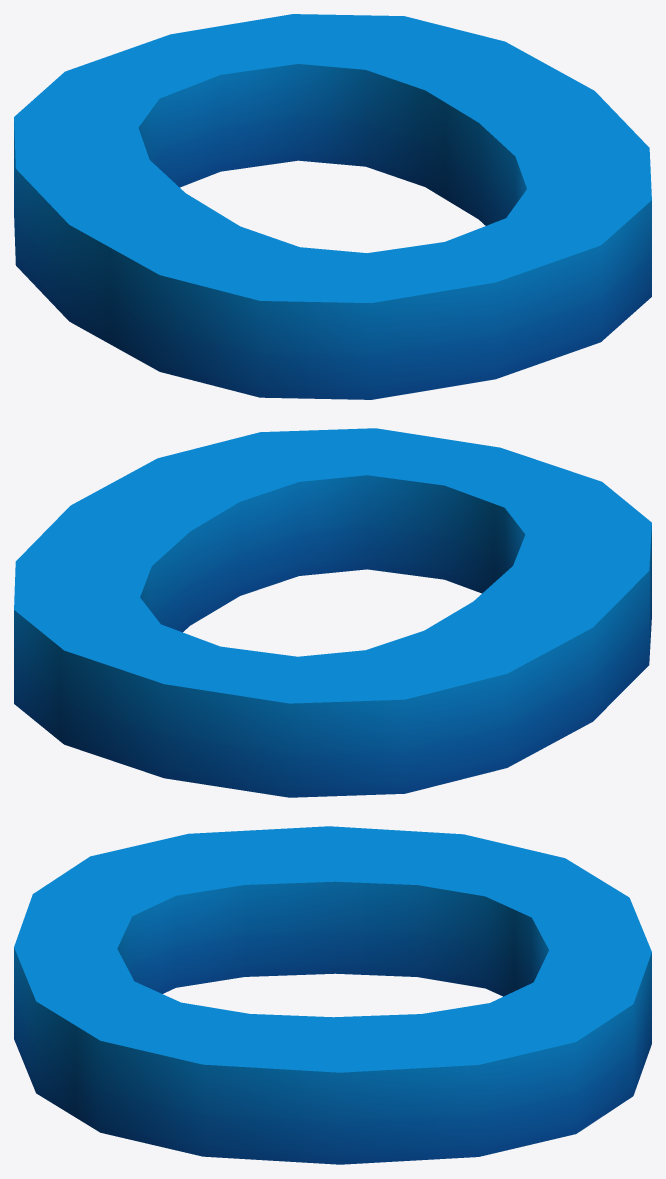
File: letter_O.fbx
The picture shows the model from 3 angles, top to bottom: view 1: azimuth 30°, elevation 25°; view 2: azimuth 150°, elevation 25°; view 3: azimuth 270°, elevation 25°; orthographic projection. The views are drawn at different scales.
Parts seen in each view (by area): view 1: letter_O; view 2: letter_O; view 3: letter_O.
Part boxes in pixels (box(x1,y1,x2,y2)): letter_O: box(14, 14, 651, 399); letter_O: box(14, 428, 651, 797); letter_O: box(14, 826, 651, 1164).
Bounding box in the file's own units: 21.54 × 3.75 × 23.57.
